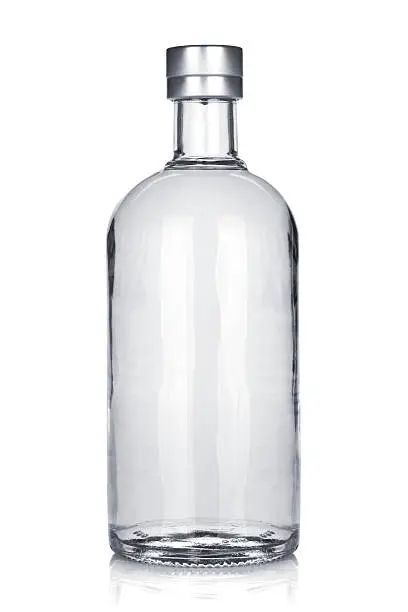glass_bottle: (90, 37, 326, 584)
